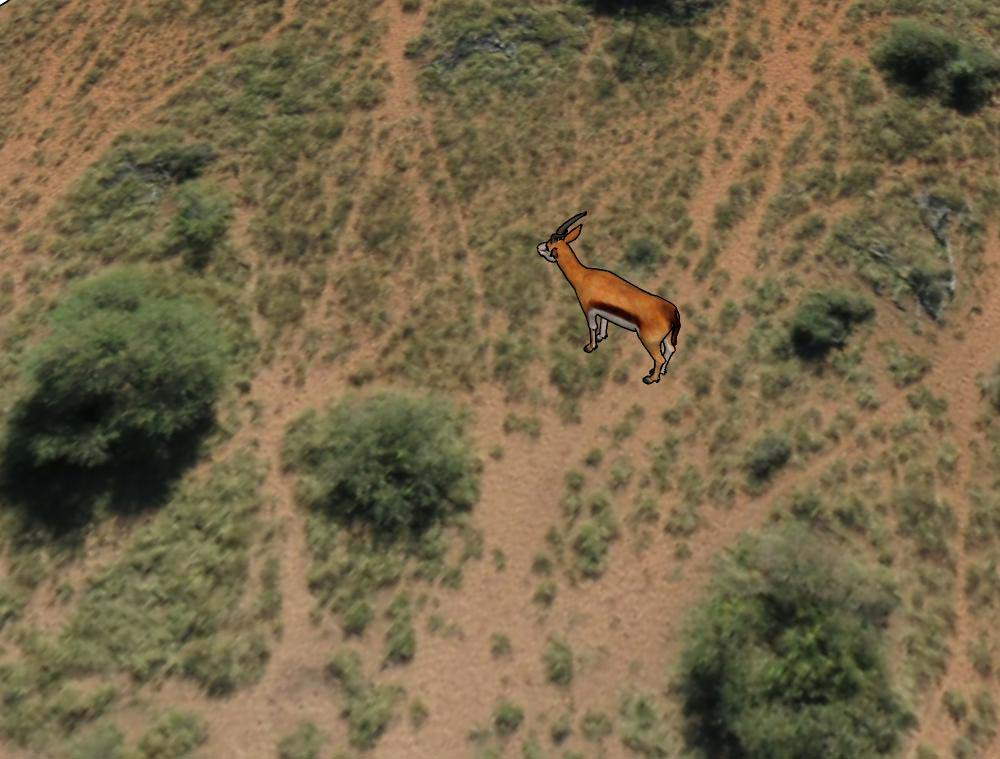springbok: (527, 208, 683, 392)
